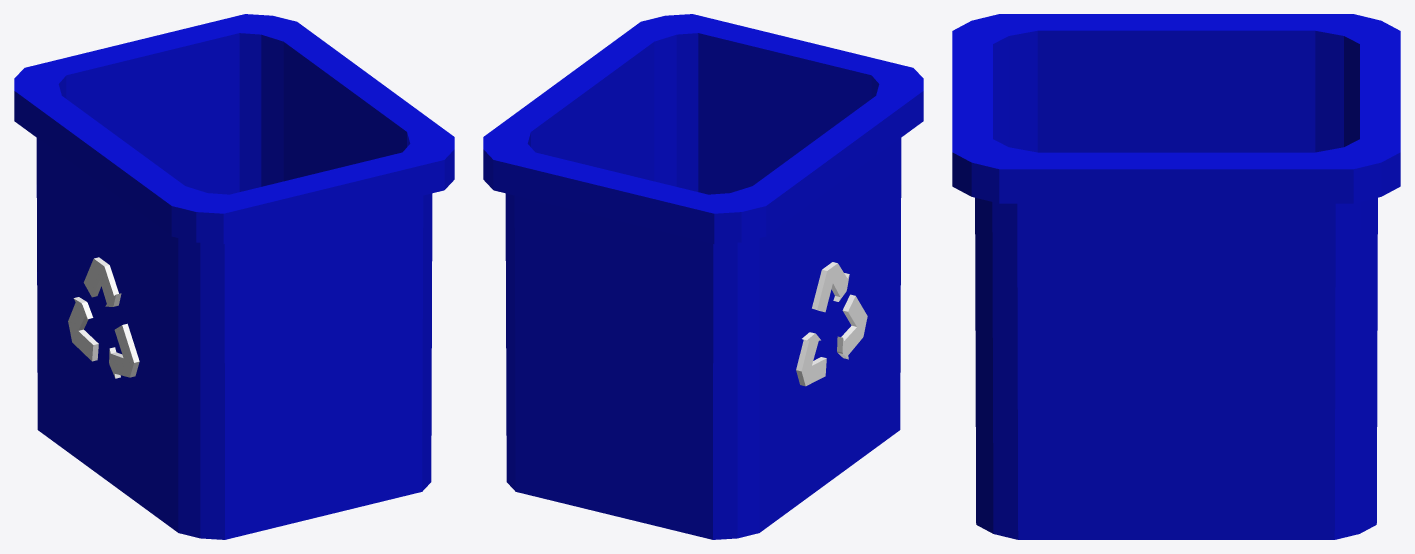
The model's file is Trashcan.fbx.
The picture shows the model from 3 angles, left to right: view 1: azimuth 30°, elevation 25°; view 2: azimuth 150°, elevation 25°; view 3: azimuth 270°, elevation 25°; orthographic projection. The views are drawn at different scales.
Visible parts, largest first — view 1: Trashcan, RecycleLogo; view 2: Trashcan, RecycleLogo; view 3: Trashcan.
Boxes of the visible parts, x1,y1,x2,y2 form: Trashcan: [14, 14, 454, 539]; RecycleLogo: [68, 257, 139, 378]; Trashcan: [483, 14, 923, 539]; RecycleLogo: [796, 262, 867, 386]; Trashcan: [952, 14, 1400, 539].
Size of the model in its own units: 176 by 200 by 214.
